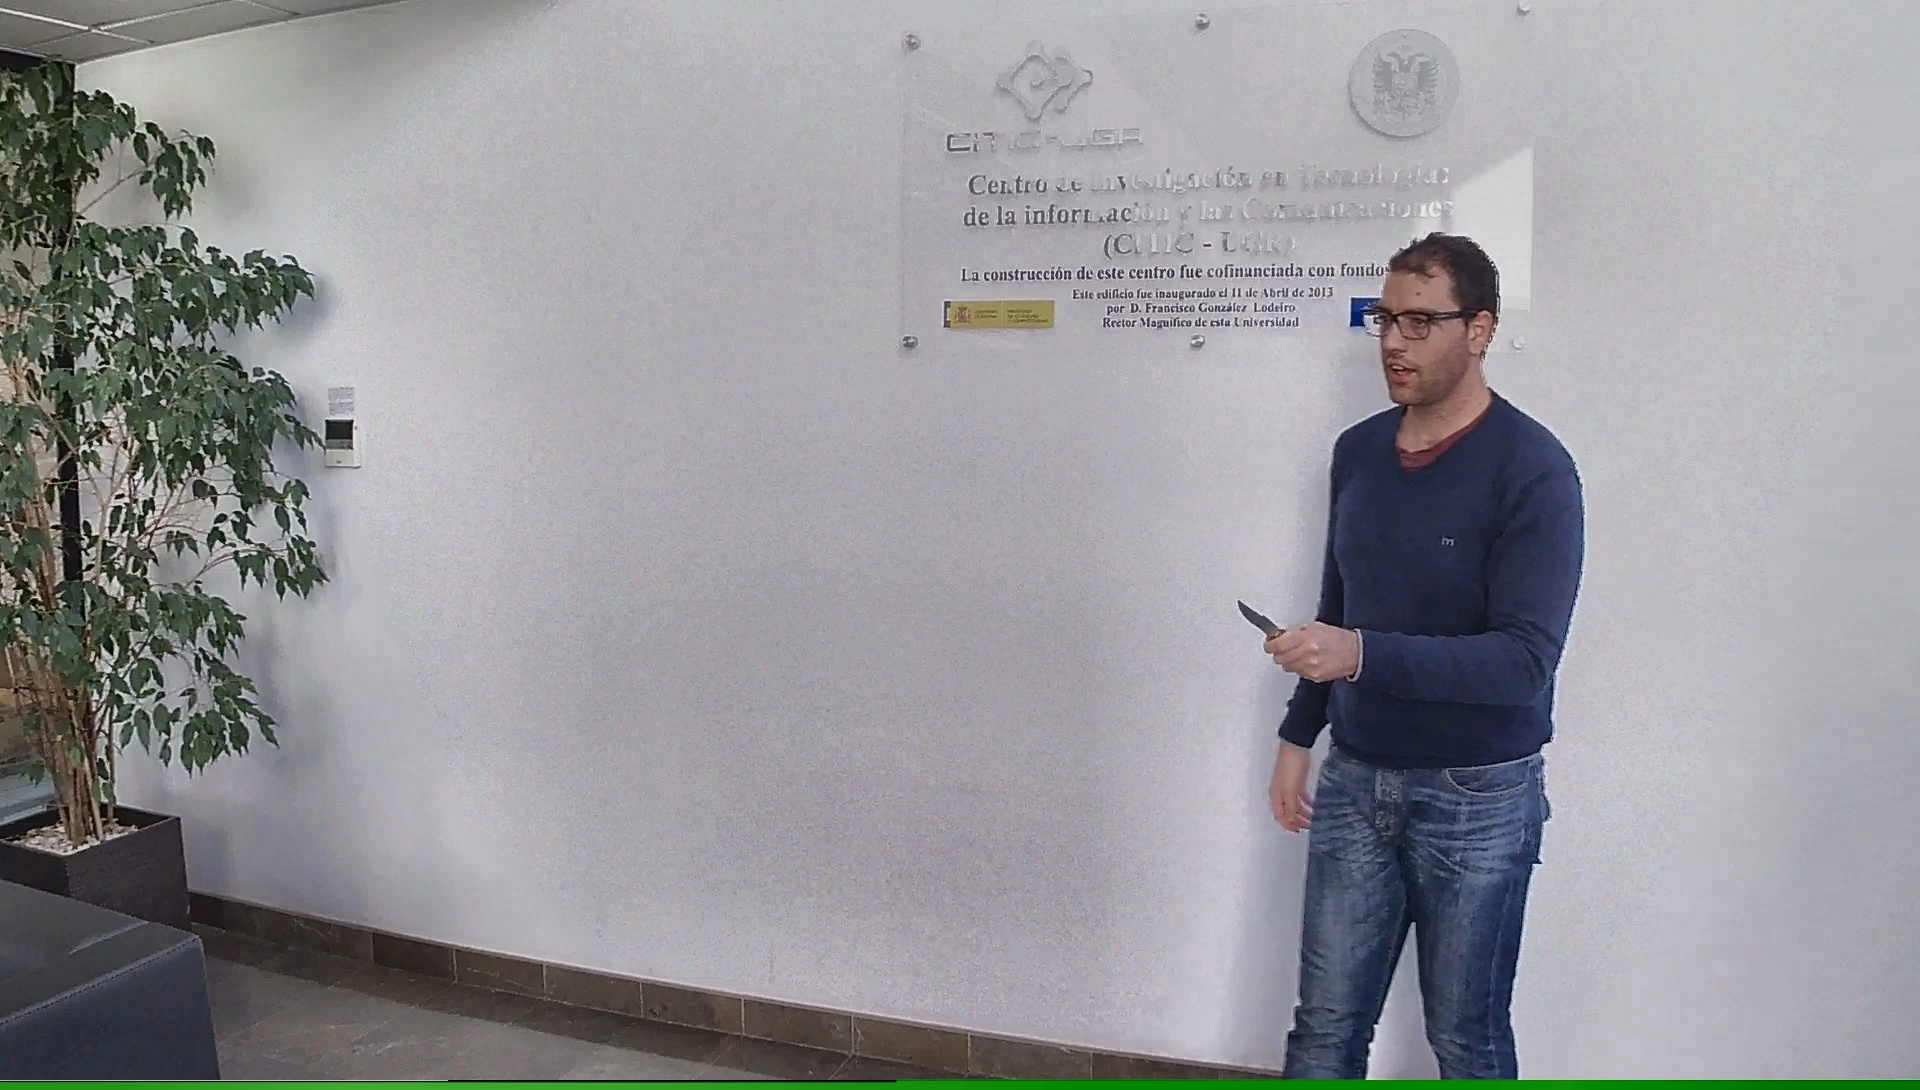knife: (1230, 590, 1305, 666)
